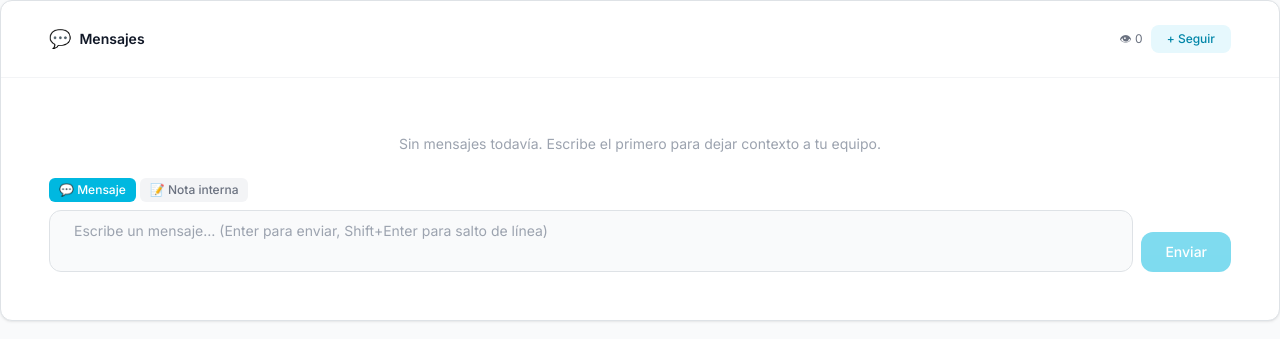
it: Chatter (hilo de mensajes del documento) › permite seguir y dejar de seguir el documento
Click the button "+ Seguir" at x=1191, y=39, box x1=1151 y1=25 x2=1231 y2=53
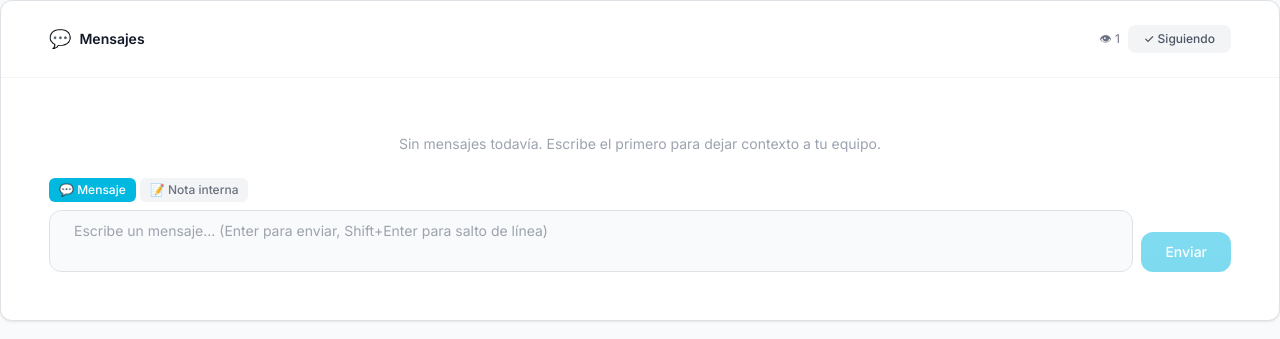
Expected: the button "✓ Siguiendo" is shown, x1=1128 y1=25 x2=1231 y2=53
